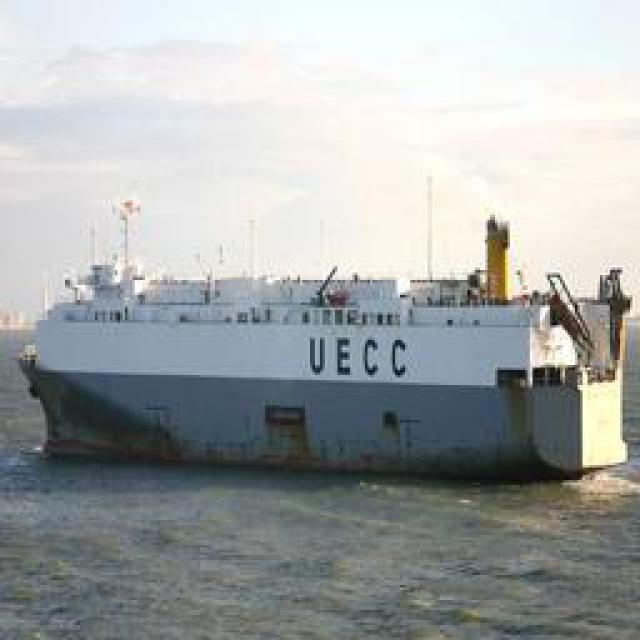Ship: (24, 192, 629, 472)
